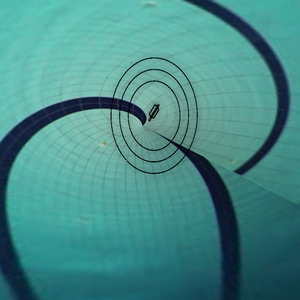circle: (98, 50, 205, 186)
submarine: (142, 99, 164, 129)
